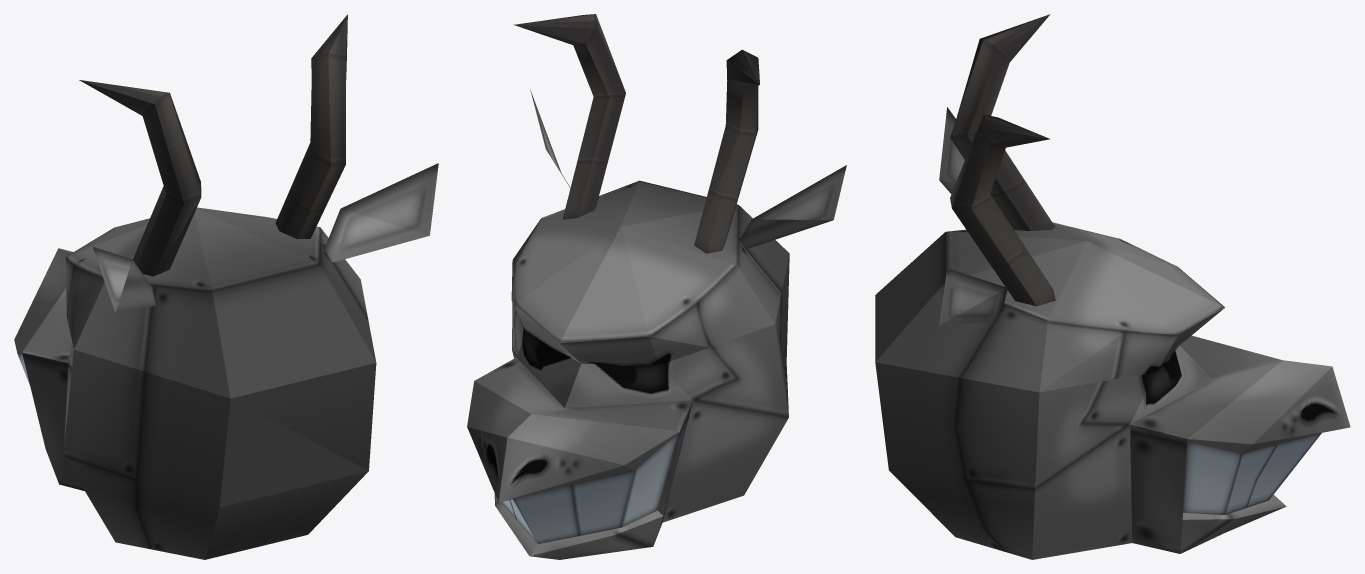
File: gazetteer_head.glb
3 views of the same model, side by side, from view 1: azimuth 30°, elevation 25°; view 2: azimuth 150°, elevation 25°; view 3: azimuth 270°, elevation 25° (orthographic). The views are drawn at different scales.
Visible parts, largest first — view 1: gazetteer; view 2: gazetteer; view 3: gazetteer.
Part boxes in pixels (bbox=[...]): gazetteer: bbox=[14, 14, 438, 559]; gazetteer: bbox=[467, 14, 846, 559]; gazetteer: bbox=[875, 14, 1350, 559].
Bounding box in the file's own units: 2.1 × 2.79 × 2.62.
Materials: 1 (1 with a texture image).
